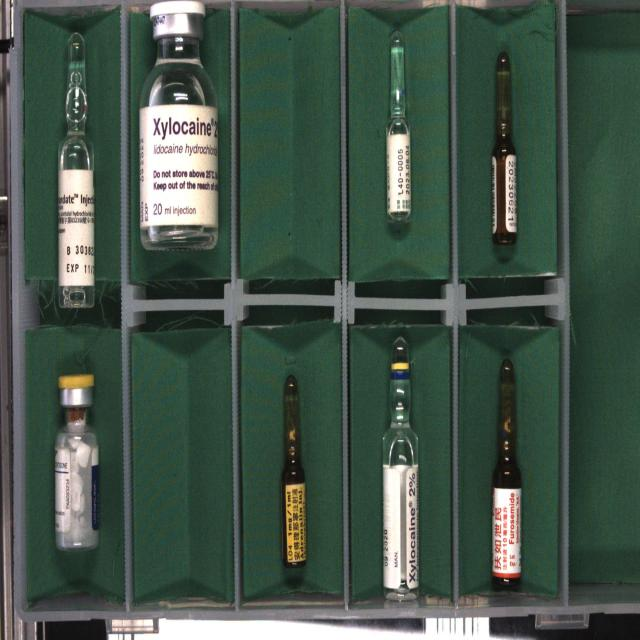Vials: (140, 0, 219, 249), (55, 373, 99, 551)
